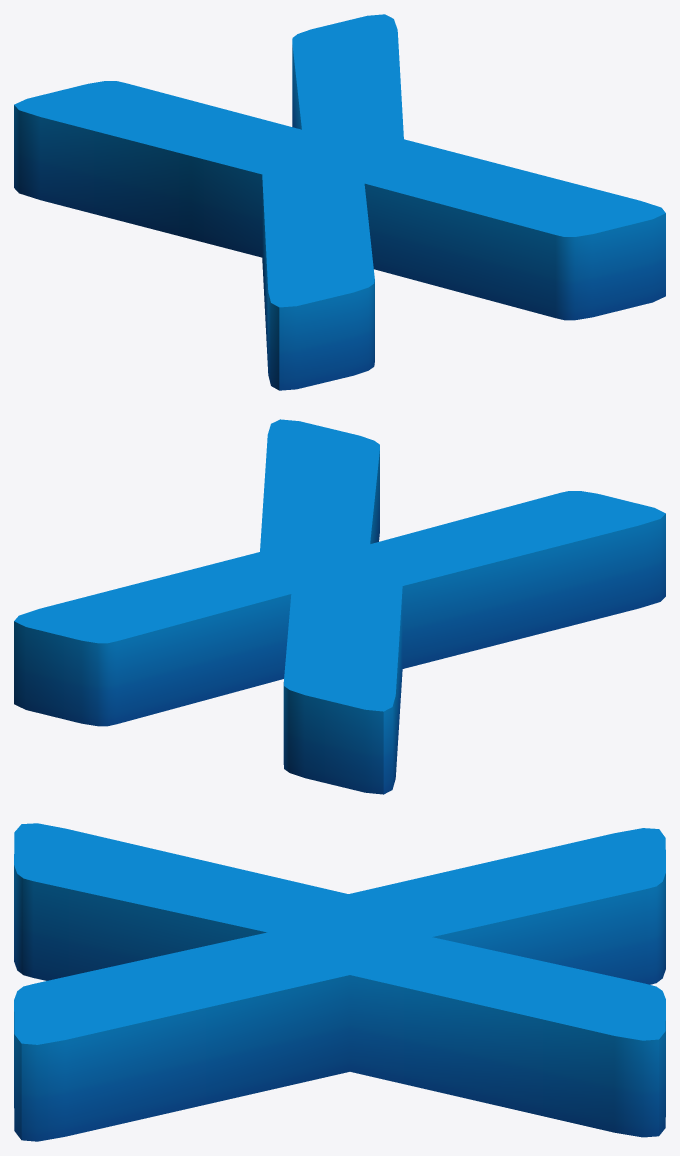
The model's file is letter_X.fbx.
The picture shows the model from 3 angles, top to bottom: view 1: azimuth 30°, elevation 25°; view 2: azimuth 150°, elevation 25°; view 3: azimuth 270°, elevation 25°; orthographic projection. The views are drawn at different scales.
Visible parts, largest first — view 1: letter_X; view 2: letter_X; view 3: letter_X.
Part boxes in pixels (<box>): letter_X: <box>14,14,665,390</box>; letter_X: <box>14,419,665,794</box>; letter_X: <box>14,823,665,1141</box>.
Size of the model in its own units: 18.42 by 3.75 by 22.9.
